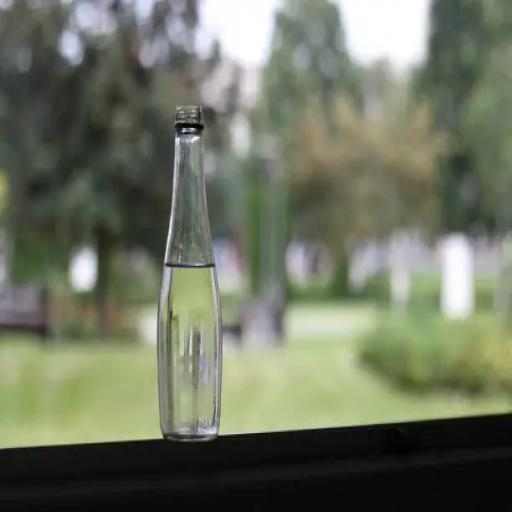bottle: (154, 92, 226, 454)
